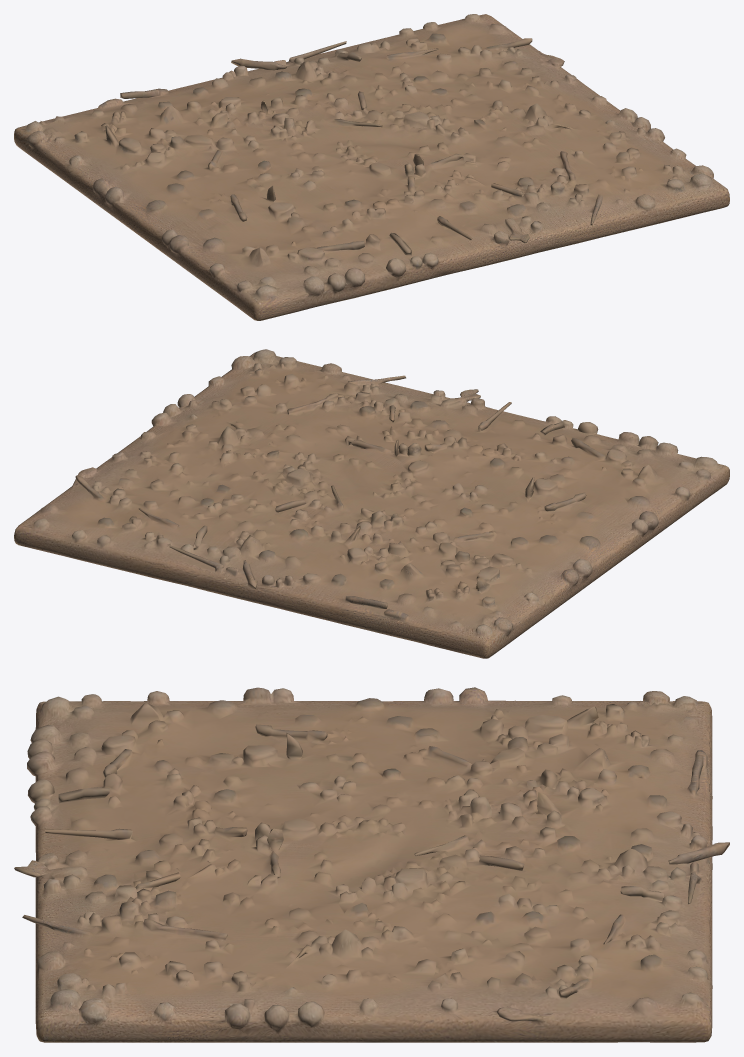
Rendered from ground-v1.glb.
The picture shows the model from 3 angles, top to bottom: view 1: azimuth 30°, elevation 25°; view 2: azimuth 150°, elevation 25°; view 3: azimuth 270°, elevation 25°; orthographic projection. The views are drawn at different scales.
Visible parts, largest first — view 1: tripo_node_0584f909-e081-4ca8-aae6-bdf469d28e21; view 2: tripo_node_0584f909-e081-4ca8-aae6-bdf469d28e21; view 3: tripo_node_0584f909-e081-4ca8-aae6-bdf469d28e21.
Part boxes in pixels (<box>): tripo_node_0584f909-e081-4ca8-aae6-bdf469d28e21: <box>14,14,729,320</box>; tripo_node_0584f909-e081-4ca8-aae6-bdf469d28e21: <box>14,349,729,658</box>; tripo_node_0584f909-e081-4ca8-aae6-bdf469d28e21: <box>14,687,729,1042</box>.
Size of the model in its own units: 1 by 0.1154 by 0.9202.
1 material, 1 textured.
